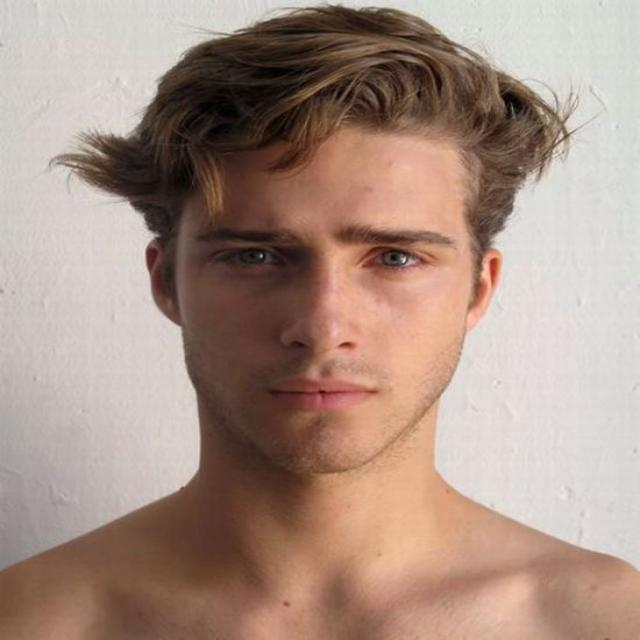front: (163, 155, 505, 459)
